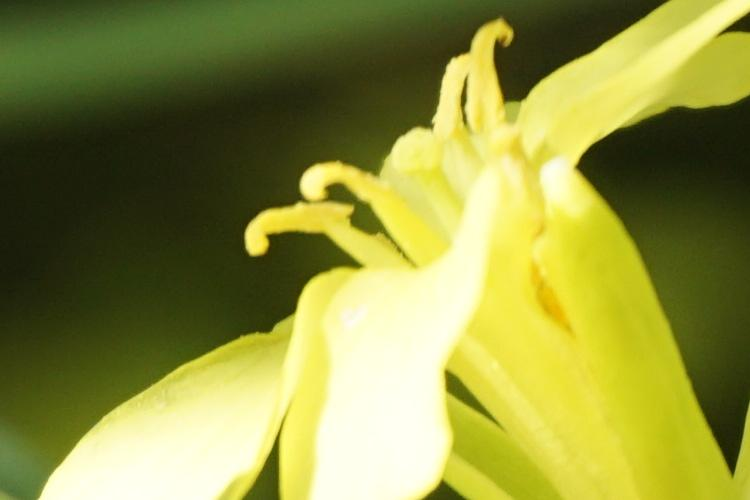yellow: (82, 32, 739, 500)
